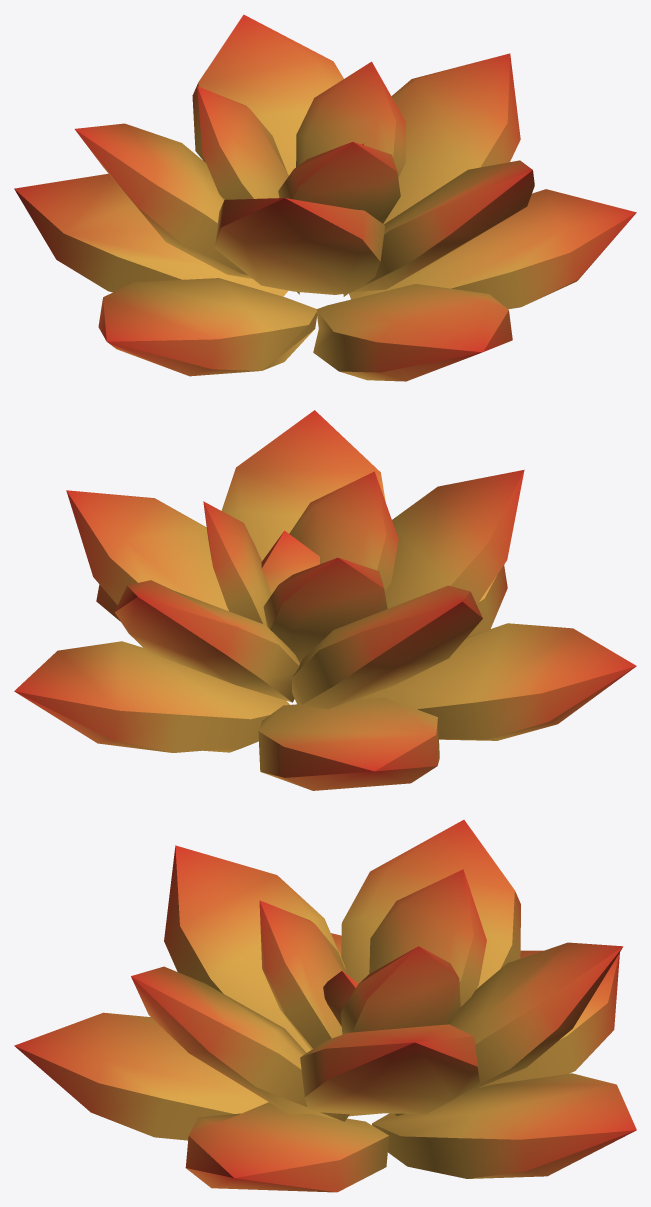
3 renders of one model, top to bottom at view 1: azimuth 30°, elevation 25°; view 2: azimuth 150°, elevation 25°; view 3: azimuth 270°, elevation 25°, orthographic. The views are drawn at different scales.
Visible parts, largest first — view 1: LOD 1_16967760880170184947_4f521bcaeda9b9647b799715f43ad4b9; view 2: LOD 1_16967760880170184947_4f521bcaeda9b9647b799715f43ad4b9; view 3: LOD 1_16967760880170184947_4f521bcaeda9b9647b799715f43ad4b9.
Part boxes in pixels (x1,y1,x2,y2): LOD 1_16967760880170184947_4f521bcaeda9b9647b799715f43ad4b9: (14, 14, 636, 381); LOD 1_16967760880170184947_4f521bcaeda9b9647b799715f43ad4b9: (14, 410, 636, 790); LOD 1_16967760880170184947_4f521bcaeda9b9647b799715f43ad4b9: (14, 820, 636, 1192).
Bounding box in the file's own units: 0.8955 × 0.3434 × 0.8664.
